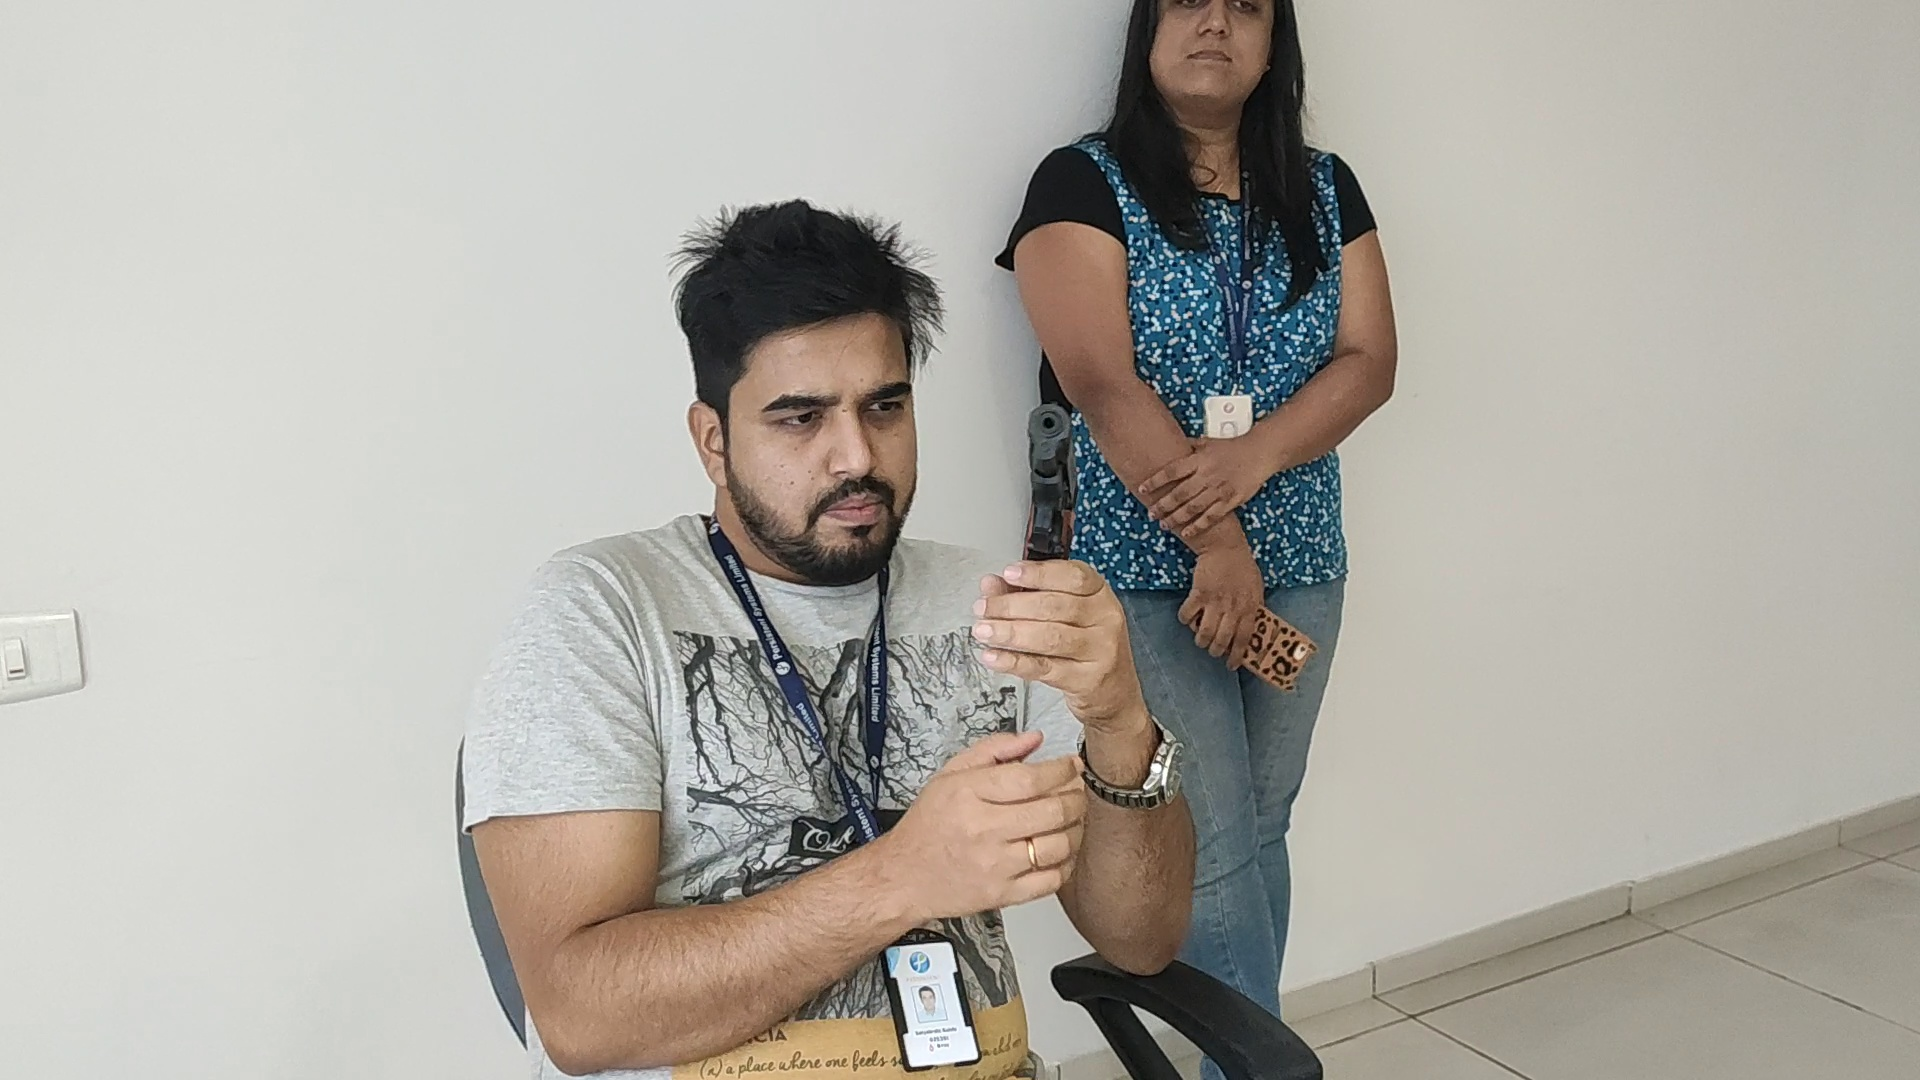gun: (1025, 404, 1077, 558)
